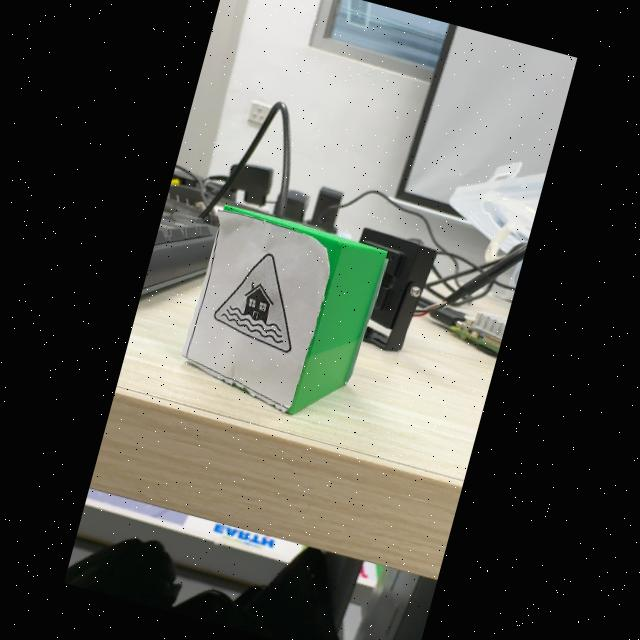Tsunami: (214, 253, 291, 352)
